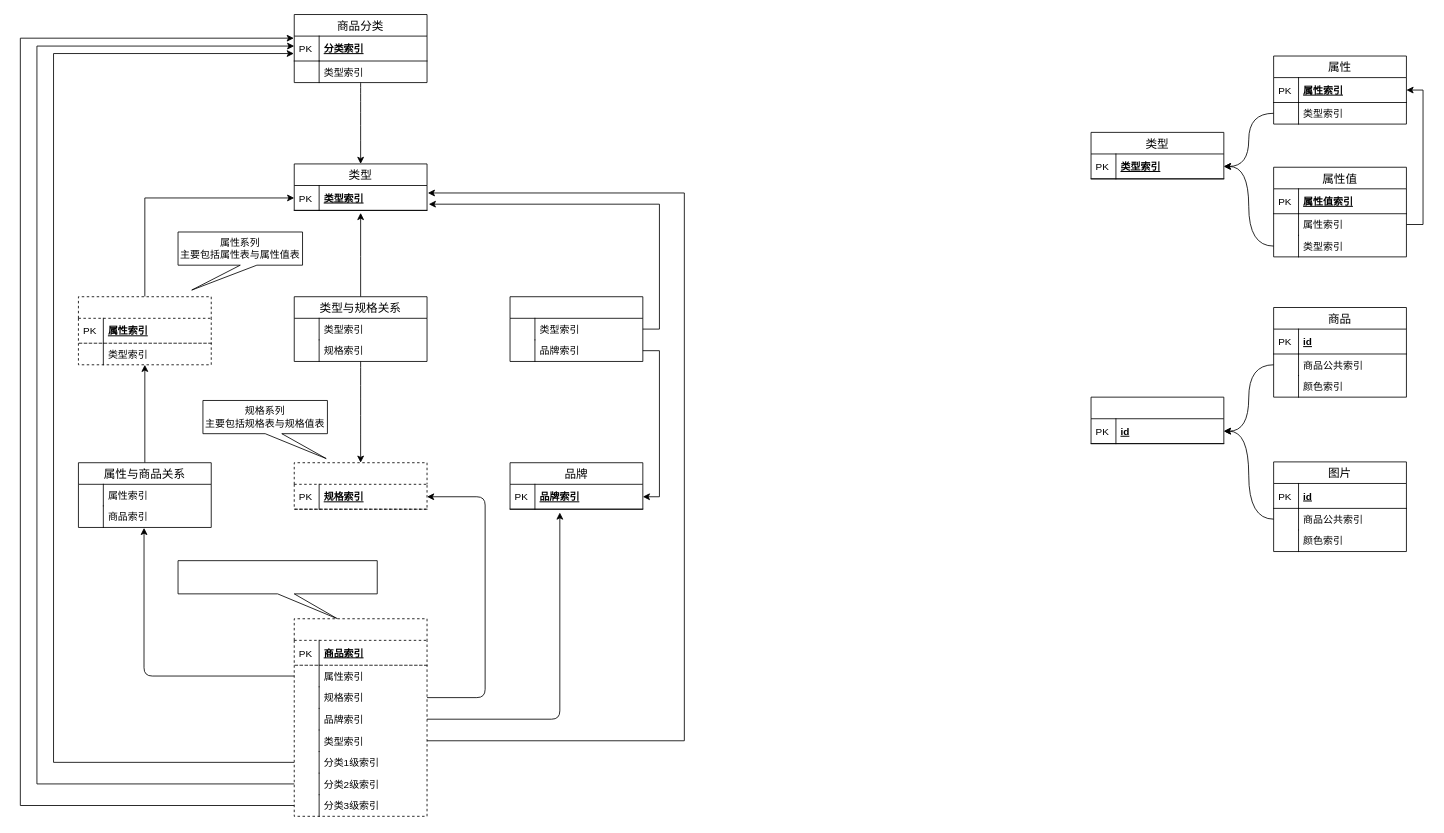
This 1444x833 diagram has some shape labels left out. The shapes that lost their labels are listed below. From the top down, each one's box as (x1, y1, x2, y2) in pixels, then its label:
(78, 296, 211, 365): 属性系列
(509, 296, 643, 361): 类型与品牌关系
(1090, 396, 1224, 444): 商品公共
(293, 462, 427, 509): 规格系列
(177, 560, 377, 619): 商品系列 主要包括商品表、商品公共表、商品图片表
(293, 618, 427, 816): 商品系列
